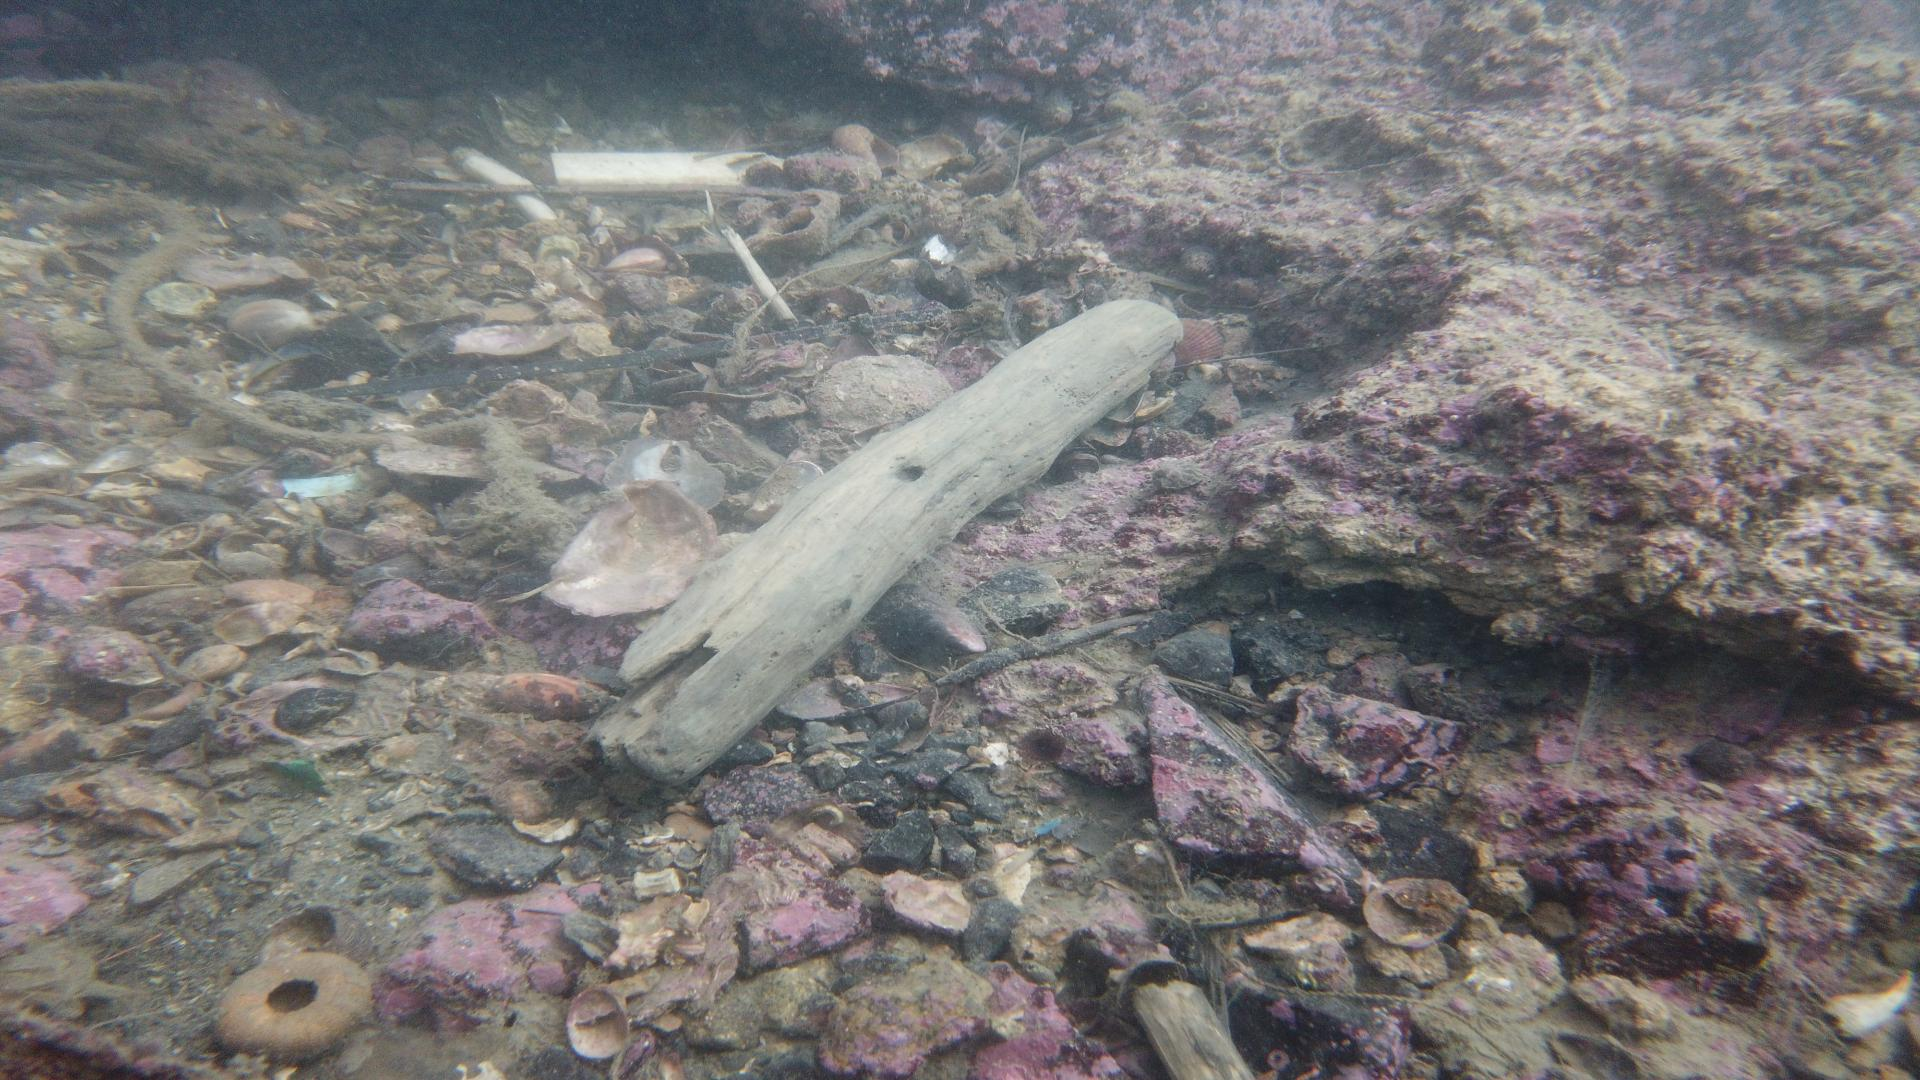rope: (11, 191, 547, 504), (1209, 934, 1515, 1065)
wood: (579, 295, 1183, 782), (1127, 977, 1258, 1080)
